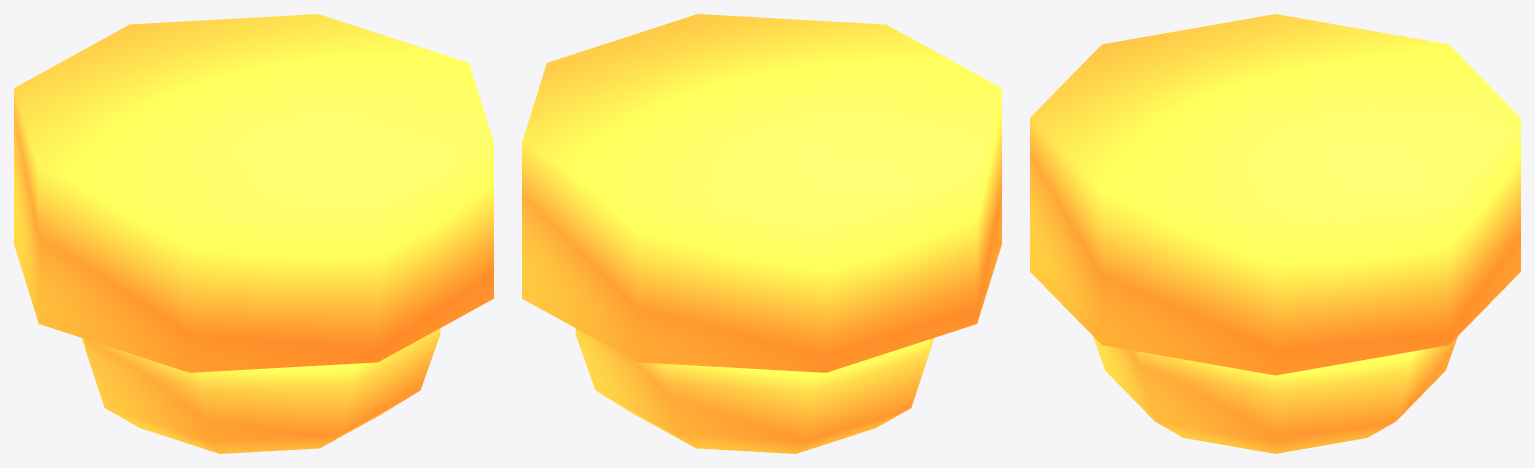
File: gold_pommel_032.glb
3 views of the same model, side by side, from view 1: azimuth 30°, elevation 25°; view 2: azimuth 150°, elevation 25°; view 3: azimuth 270°, elevation 25° (orthographic).
Parts seen in each view (by area): view 1: gold_pommel_032; view 2: gold_pommel_032; view 3: gold_pommel_032.
Boxes of the visible parts, x1,y1,x2,y2 form: gold_pommel_032: (14, 14, 493, 453); gold_pommel_032: (522, 14, 1001, 453); gold_pommel_032: (1030, 14, 1520, 453).
Size of the model in its own units: 1.78 by 1.18 by 1.78.
1 material, 1 textured.
